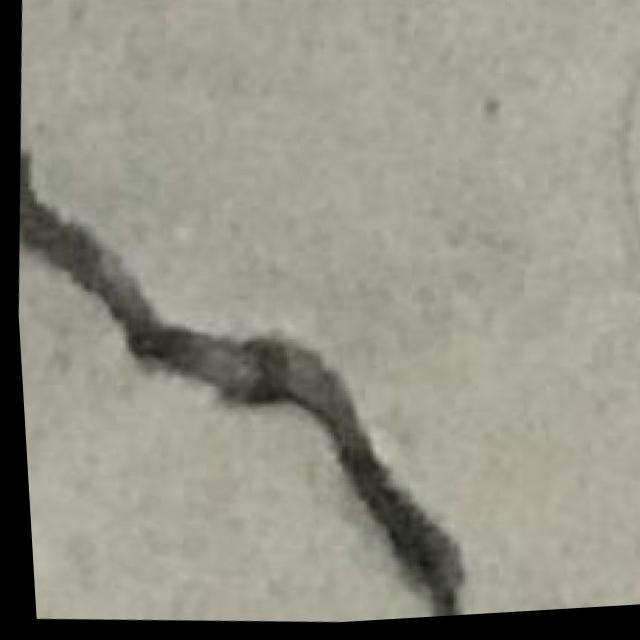Crack: (8, 155, 531, 587)
